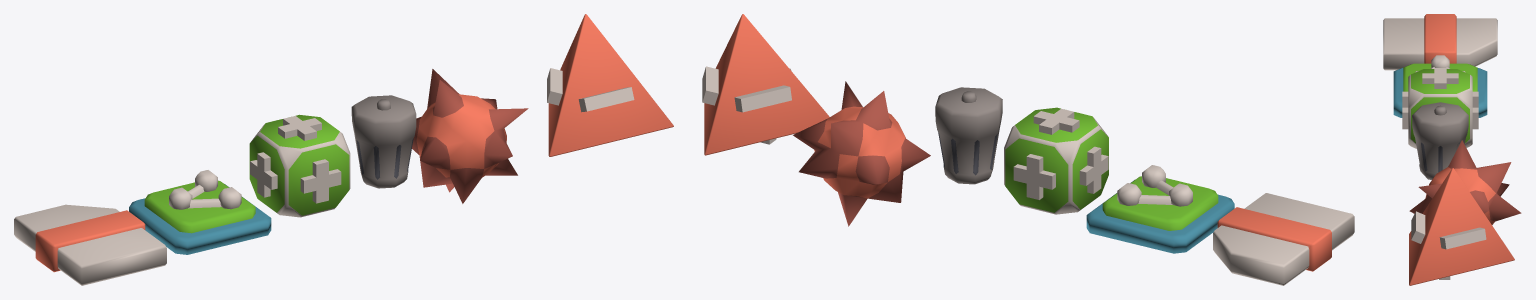
File: prop.fbx
3 views of the same model, side by side, from view 1: azimuth 30°, elevation 25°; view 2: azimuth 150°, elevation 25°; view 3: azimuth 270°, elevation 25° (orthographic). The views are drawn at different scales.
Parts seen in each view (by area): view 1: prop_score_down, prop_2_pdf, prop_score_up, prop_3_virus, prop_3_pdf, prop_2_trashcan; view 2: prop_score_down, prop_score_up, prop_3_virus, prop_2_pdf, prop_3_pdf, prop_2_trashcan; view 3: prop_score_down, prop_2_pdf, prop_score_up, prop_2_trashcan, prop_3_virus, prop_3_pdf.
Boxes of the visible parts, x1,y1,x2,y2 form: prop_score_down: (547,14,673,156); prop_2_pdf: (14,204,166,285); prop_score_up: (249,114,350,217); prop_3_virus: (412,69,528,203); prop_3_pdf: (129,170,271,254); prop_2_trashcan: (351,95,416,188); prop_score_down: (702,14,829,155); prop_score_up: (1004,107,1108,214); prop_3_virus: (793,81,930,226); prop_2_pdf: (1213,193,1354,285); prop_3_pdf: (1086,165,1234,253); prop_2_trashcan: (935,87,1002,184); prop_score_down: (1409,168,1514,285); prop_2_pdf: (1383,14,1497,70); prop_score_up: (1402,68,1478,148); prop_2_trashcan: (1412,102,1468,179); prop_3_virus: (1409,140,1521,224); prop_3_pdf: (1393,55,1487,117).
Bounding box in the file's own units: 198 × 50.33 × 46.
1 material, 1 textured.
